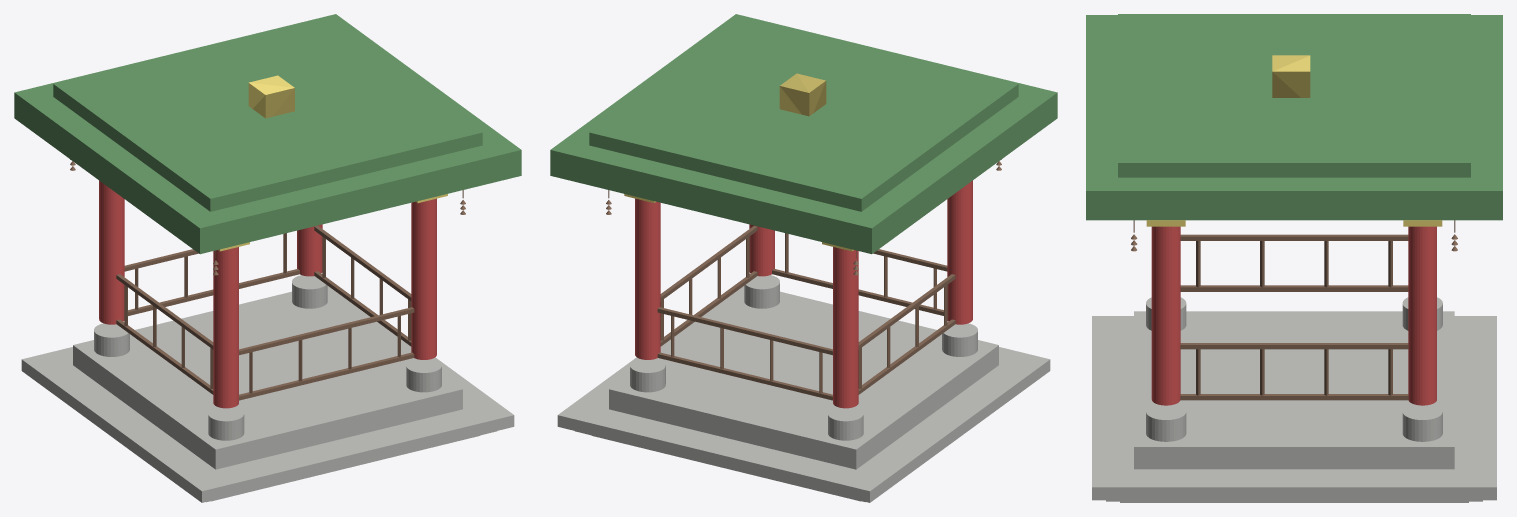
3 renders of one model, left to right at view 1: azimuth 30°, elevation 25°; view 2: azimuth 150°, elevation 25°; view 3: azimuth 270°, elevation 25°, orthographic. The views are drawn at different scales.
Parts seen in each view (by area): view 1: Roof_Base_T2, Stone_Platform, Roof_Base_T1, Step_1, Red_Column_1_-1, Red_Column_-1_-1, Red_Column_-1_1, object 71, Red_Column_1_1, Rail_south_1.6, Rail_south_0.9, Column_Base_-1_-1 (+8 smaller); view 2: Roof_Base_T2, Stone_Platform, Roof_Base_T1, Step_1, Red_Column_1_1, Red_Column_-1_1, Red_Column_-1_-1, object 71, Red_Column_1_-1, Rail_north_1.6, Rail_north_0.9, Column_Base_-1_1 (+8 smaller); view 3: Roof_Base_T2, Stone_Platform, Roof_Base_T1, Step_1, Red_Column_1_-1, Red_Column_1_1, object 71, Rail_east_1.6, Rail_west_1.6, Rail_east_0.9, Rail_west_0.9, Column_Base_1_1 (+3 smaller).
Boxes of the visible parts, x1=… form: Roof_Base_T2: x1=53, y1=17, x2=482, y2=211; Stone_Platform: x1=73, y1=290, x2=462, y2=469; Roof_Base_T1: x1=14, y1=14, x2=521, y2=254; Step_1: x1=21, y1=286, x2=514, y2=502; Red_Column_1_-1: x1=411, y1=198, x2=436, y2=359; Red_Column_-1_-1: x1=213, y1=247, x2=238, y2=408; Red_Column_-1_1: x1=99, y1=180, x2=124, y2=324; object 71: x1=248, y1=75, x2=294, y2=118; Red_Column_1_1: x1=297, y1=224, x2=322, y2=276; Rail_south_1.6: x1=239, y1=307, x2=414, y2=355; Rail_south_0.9: x1=239, y1=352, x2=414, y2=400; Column_Base_-1_-1: x1=208, y1=407, x2=244, y2=440; Roof_Base_T2: x1=589, y1=17, x2=1018, y2=211; Stone_Platform: x1=609, y1=290, x2=998, y2=469; Roof_Base_T1: x1=550, y1=14, x2=1057, y2=254; Step_1: x1=557, y1=286, x2=1050, y2=502; Red_Column_1_1: x1=635, y1=198, x2=660, y2=359; Red_Column_-1_1: x1=833, y1=247, x2=858, y2=408; Red_Column_-1_-1: x1=947, y1=180, x2=972, y2=324; object 71: x1=779, y1=73, x2=826, y2=116; Red_Column_1_-1: x1=749, y1=224, x2=774, y2=276; Rail_north_1.6: x1=657, y1=307, x2=832, y2=355; Rail_north_0.9: x1=657, y1=352, x2=832, y2=400; Column_Base_-1_1: x1=828, y1=407, x2=863, y2=440; Roof_Base_T2: x1=1118, y1=14, x2=1470, y2=177; Stone_Platform: x1=1134, y1=311, x2=1454, y2=469; Roof_Base_T1: x1=1086, y1=15, x2=1502, y2=220; Step_1: x1=1092, y1=316, x2=1496, y2=500; Red_Column_1_-1: x1=1151, y1=226, x2=1180, y2=405; Red_Column_1_1: x1=1408, y1=226, x2=1436, y2=405; object 71: x1=1272, y1=55, x2=1310, y2=97; Rail_east_1.6: x1=1180, y1=343, x2=1408, y2=349; Rail_west_1.6: x1=1180, y1=234, x2=1408, y2=240; Rail_east_0.9: x1=1180, y1=394, x2=1408, y2=400; Rail_west_0.9: x1=1180, y1=285, x2=1408, y2=291; Column_Base_1_1: x1=1402, y1=404, x2=1442, y2=441.
Size of the model in its own units: 5.2 by 5.05 by 5.2.
